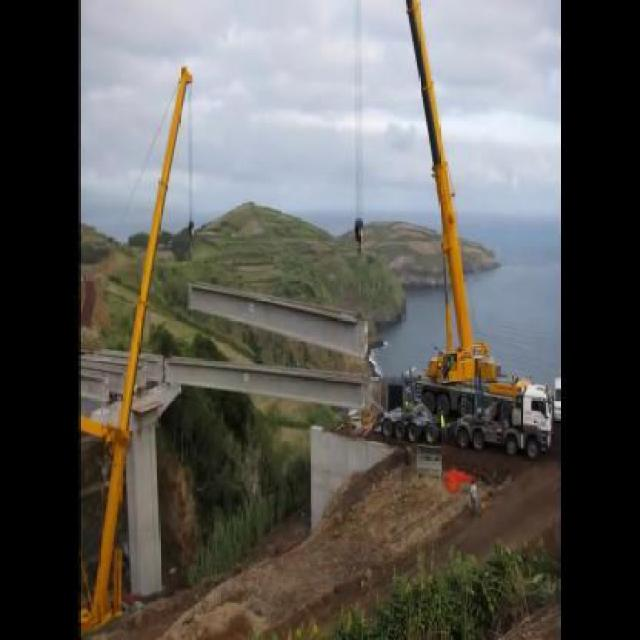Mobile Crane: (354, 0, 552, 462), (79, 61, 192, 638)
